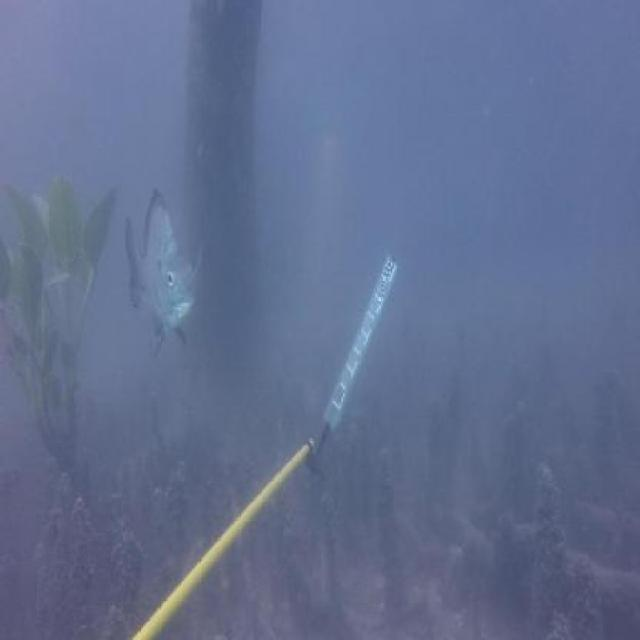acanthopagrus_palmaris: (121, 182, 204, 361)
